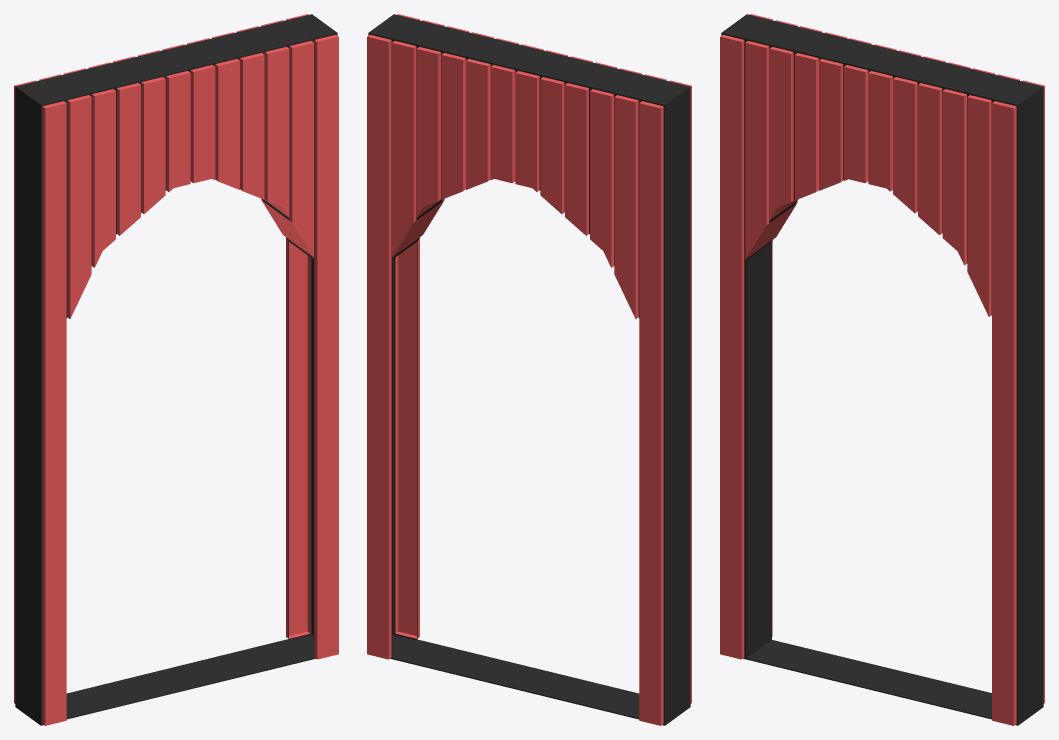
File: PinkBoardsDoorframe.glb
The picture shows the model from 3 angles, left to right: view 1: azimuth 30°, elevation 25°; view 2: azimuth 150°, elevation 25°; view 3: azimuth 330°, elevation 25°; orthographic projection.
Parts seen in each view (by area): view 1: wall_pinkBoards_thin_door; view 2: wall_pinkBoards_thin_door; view 3: wall_pinkBoards_thin_door.
Part boxes in pixels (x1=…): wall_pinkBoards_thin_door: x1=14, y1=14, x2=338, y2=725; wall_pinkBoards_thin_door: x1=367, y1=14, x2=691, y2=725; wall_pinkBoards_thin_door: x1=720, y1=14, x2=1044, y2=725.
Size of what is drawn, in the model's own units: 2 by 4 by 0.3631.
1 material, 1 textured.
